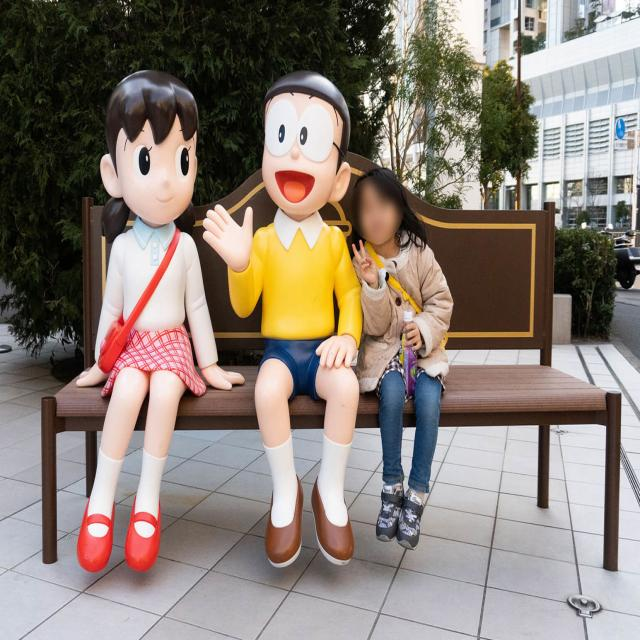nobita: (252, 50, 365, 239)
shizuka: (94, 62, 228, 251)
